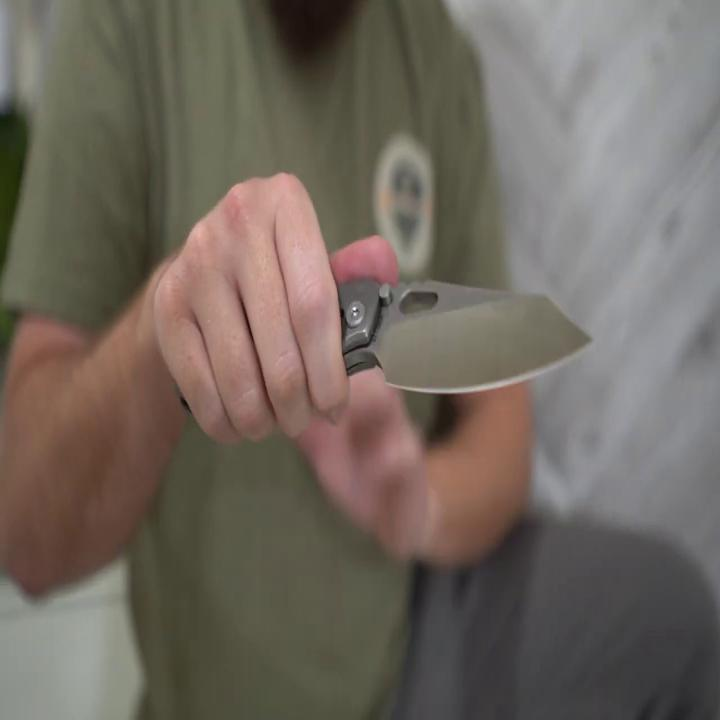knife: (174, 270, 597, 420)
